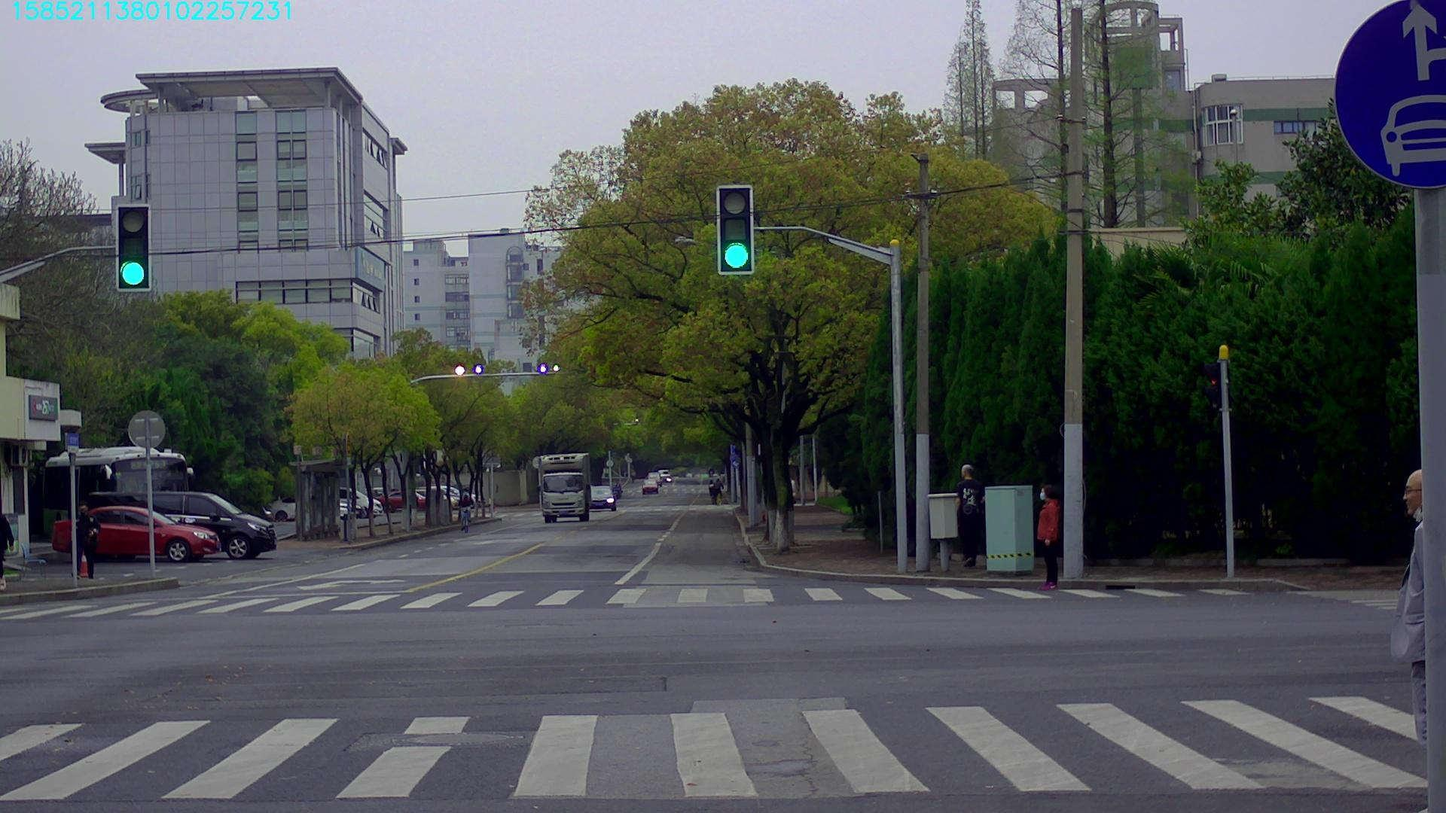green: (718, 187, 753, 272), (119, 203, 149, 290)
